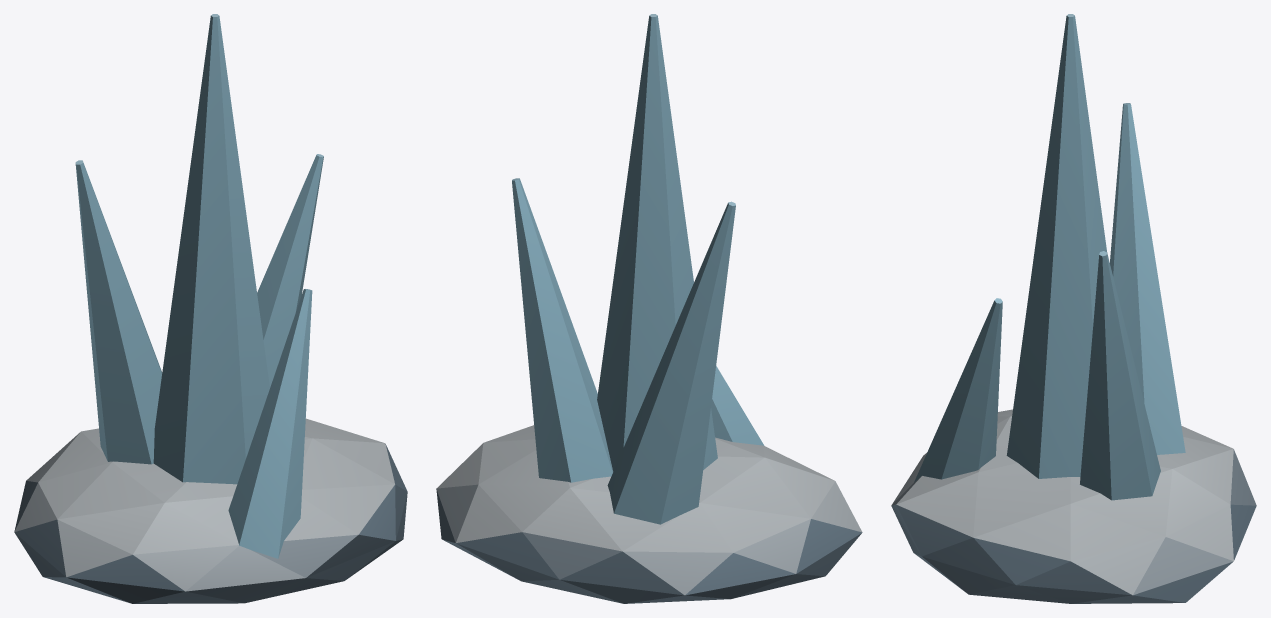
The model's file is ice_spire_b.glb.
3 views of the same model, side by side, from view 1: azimuth 30°, elevation 25°; view 2: azimuth 150°, elevation 25°; view 3: azimuth 270°, elevation 25° (orthographic).
Parts seen in each view (by area): view 1: ice_spire_b; view 2: ice_spire_b; view 3: ice_spire_b.
Part boxes in pixels (x1=…): ice_spire_b: x1=14, y1=14, x2=407, y2=603; ice_spire_b: x1=436, y1=14, x2=862, y2=603; ice_spire_b: x1=891, y1=14, x2=1256, y2=603.
Size of the model in its own units: 1.88 by 2.56 by 1.65.
